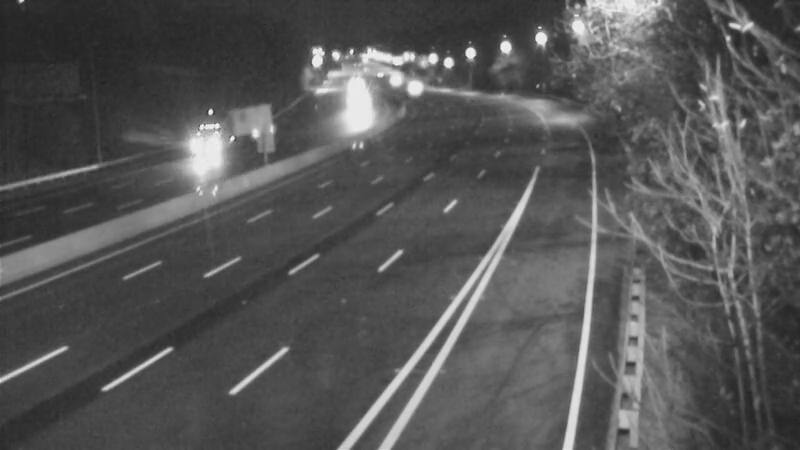vehicle: (387, 61, 437, 111), (371, 54, 421, 104), (191, 122, 241, 172), (332, 90, 382, 140)
